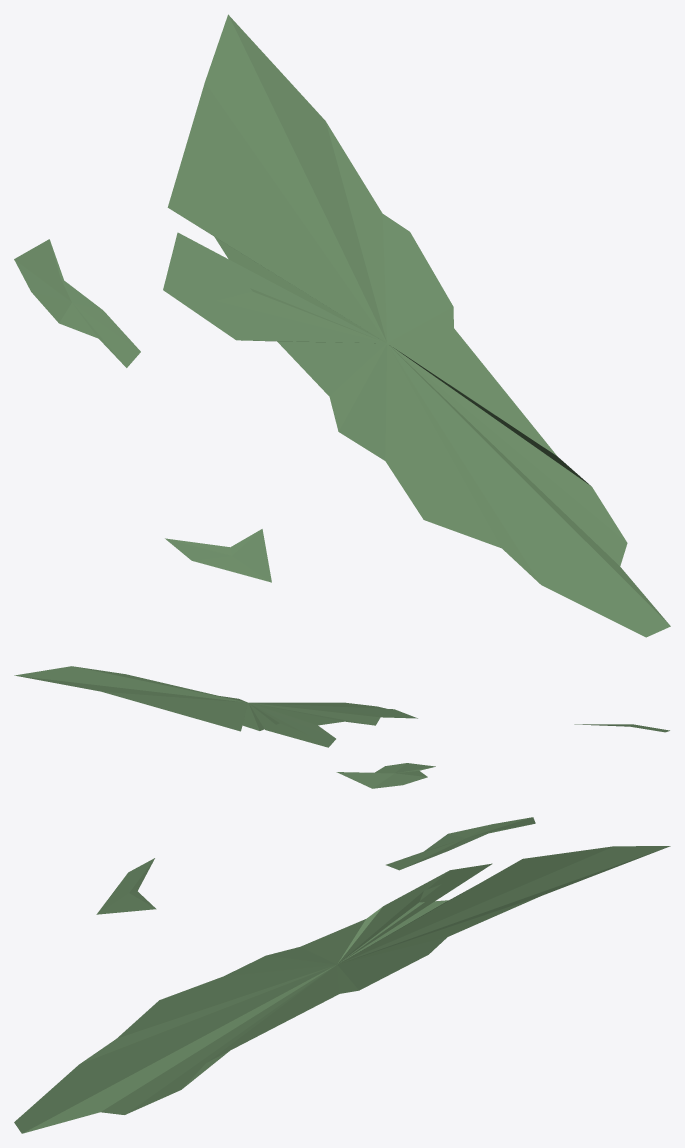
Rendered from c_1670_17820_forest.glb.
The picture shows the model from 3 angles, top to bottom: view 1: azimuth 30°, elevation 25°; view 2: azimuth 150°, elevation 25°; view 3: azimuth 270°, elevation 25°; orthographic projection. The views are drawn at different scales.
Visible parts, largest first — view 1: geometry_0; view 2: geometry_0; view 3: geometry_0.
Part boxes in pixels (<box>): geometry_0: <box>14,14,670,637</box>; geometry_0: <box>14,666,669,788</box>; geometry_0: <box>14,817,670,1133</box>.
Bounding box in the file's own units: 173 × 123 × 272.
